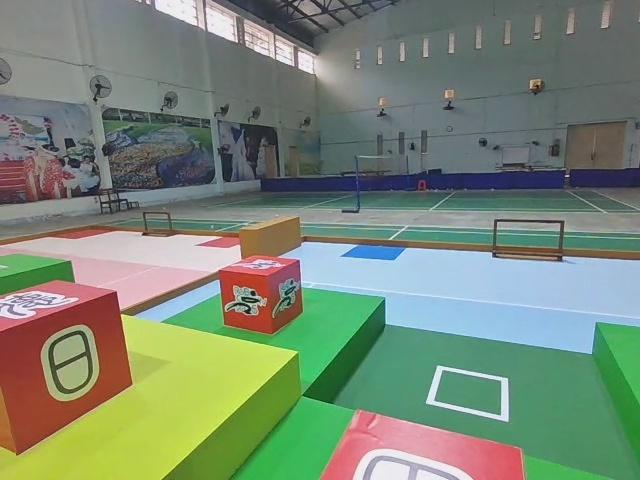R1: (217, 252, 306, 336)
R2 Fake: (0, 275, 134, 457)
